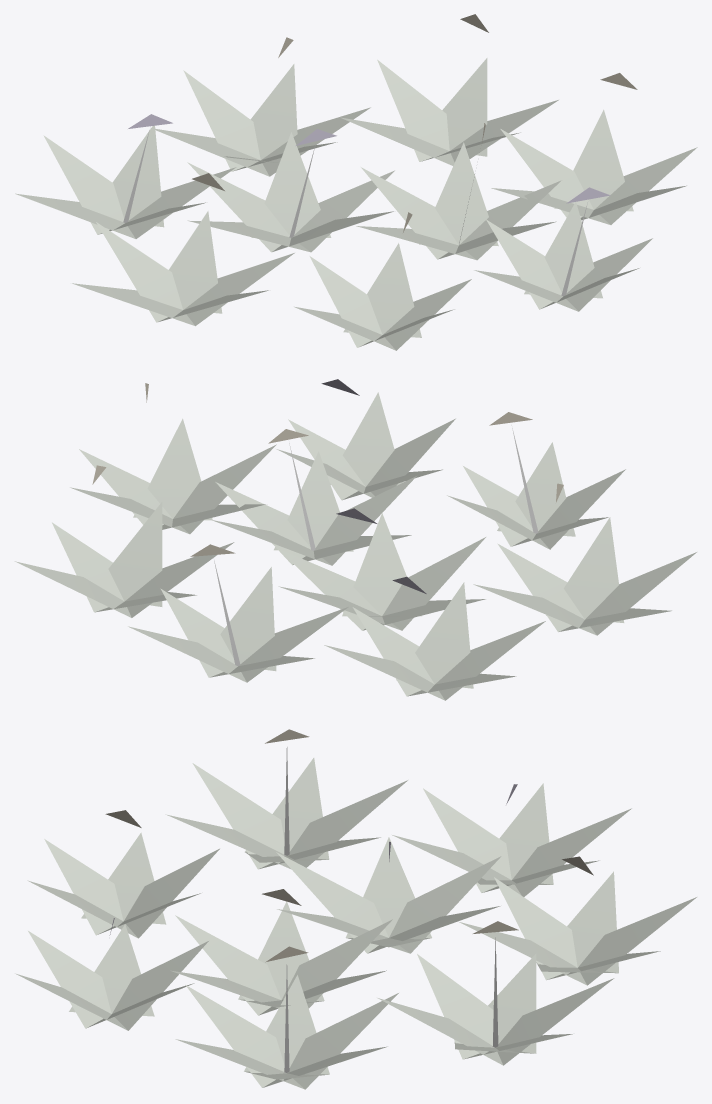
Rendered from biome_wildflowers_lod2.glb.
3 views of the same model, one above another, from view 1: azimuth 30°, elevation 25°; view 2: azimuth 150°, elevation 25°; view 3: azimuth 270°, elevation 25° (orthographic). The views are drawn at different scales.
Parts seen in each view (by area): view 1: biome_wildflowers_LOD2; view 2: biome_wildflowers_LOD2; view 3: biome_wildflowers_LOD2.
Part boxes in pixels (x1,y1,x2,y2): biome_wildflowers_LOD2: (15,14,697,350); biome_wildflowers_LOD2: (14,379,696,700); biome_wildflowers_LOD2: (15,729,696,1089).
Bounding box in the file's own units: 3.17 × 0.645 × 2.84.
